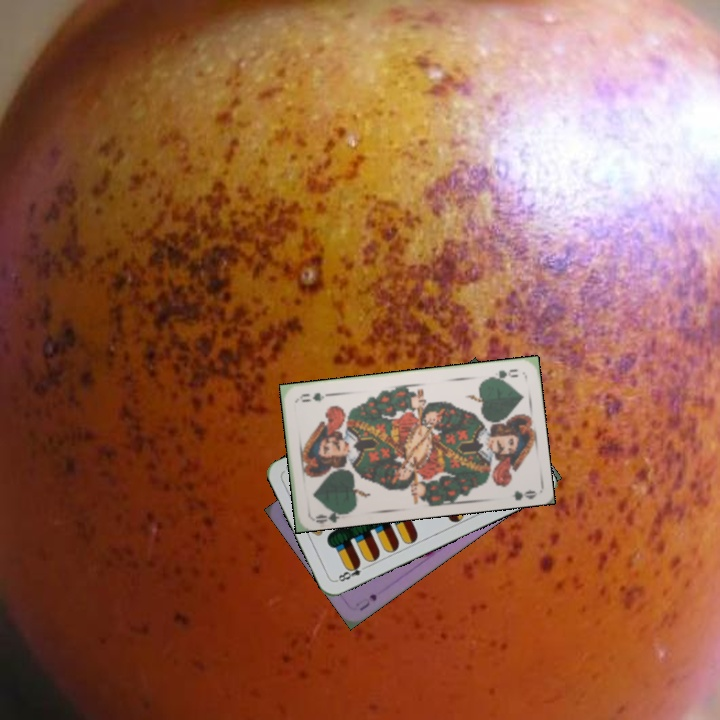E8: (332, 558, 371, 584)
GO: (309, 504, 350, 525), (483, 365, 521, 383)
SU: (352, 590, 380, 614)
